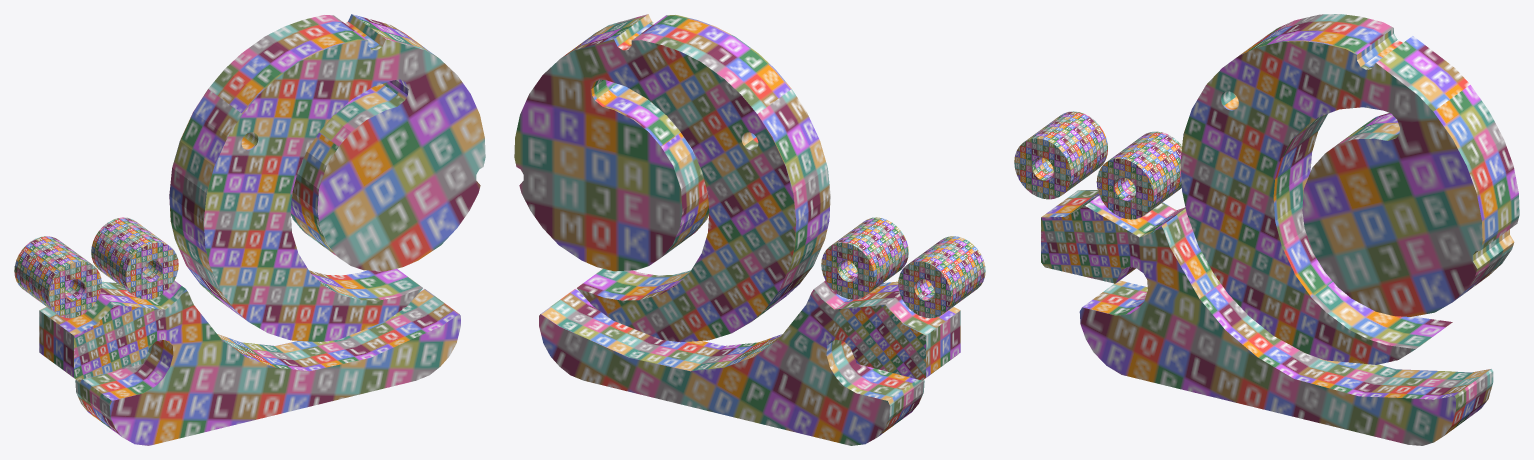
The model's file is 3dschnecki.dae.
3 views of the same model, side by side, from view 1: azimuth 30°, elevation 25°; view 2: azimuth 150°, elevation 25°; view 3: azimuth 330°, elevation 25° (orthographic). The views are drawn at different scales.
Visible parts, largest first — view 1: Group0_extract4-0, Group0_extract5-0, Tube4_extract6-0, Tube4_extract7-0; view 2: Group0_extract4-0, Group0_extract5-0, Tube4_extract6-0, Tube4_extract7-0; view 3: Group0_extract4-0, Group0_extract5-0, Tube4_extract7-0, Tube4_extract6-0.
Boxes of the visible parts, x1,y1,x2,y2 form: Group0_extract4-0: (169,14,485,342); Group0_extract5-0: (39,280,460,445); Tube4_extract6-0: (91,217,178,299); Tube4_extract7-0: (14,236,101,318); Group0_extract4-0: (514,14,830,342); Group0_extract5-0: (539,280,960,445); Tube4_extract6-0: (821,217,908,299); Tube4_extract7-0: (898,236,985,318); Group0_extract4-0: (1180,14,1519,364); Group0_extract5-0: (1041,190,1493,445); Tube4_extract7-0: (1014,111,1107,199); Tube4_extract6-0: (1096,131,1181,219).
Bounding box in the file's own units: 72.97 × 56.64 × 10.
Materials: 4 (4 with a texture image).
